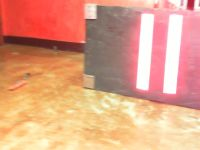switch: (161, 13, 183, 94), (136, 13, 154, 90)
